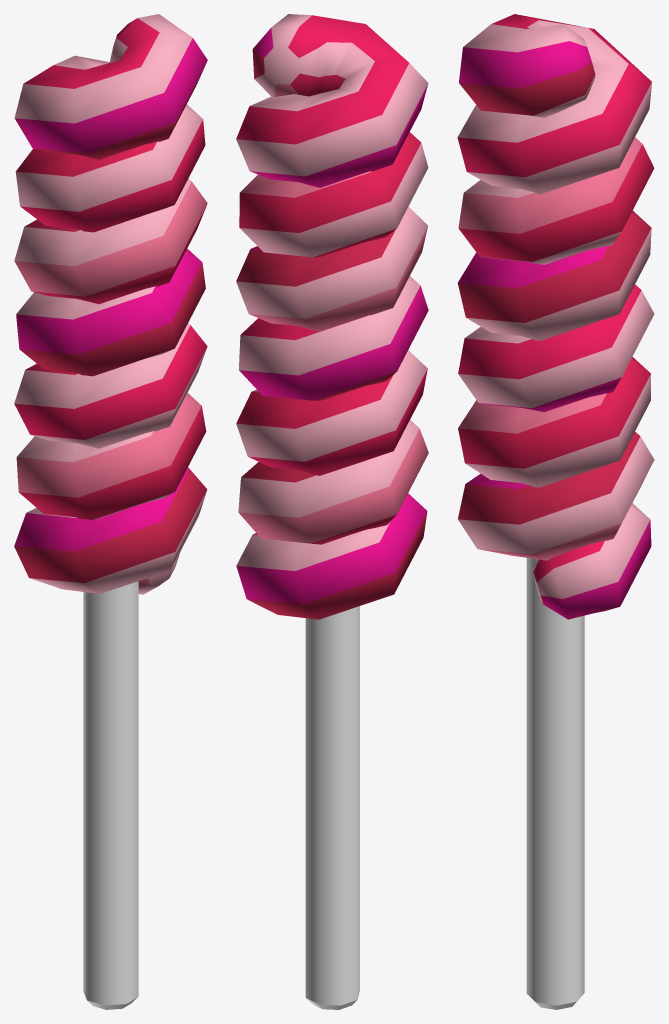
Rendered from Candy_16.fbx.
3 views of the same model, side by side, from view 1: azimuth 30°, elevation 25°; view 2: azimuth 150°, elevation 25°; view 3: azimuth 270°, elevation 25° (orthographic). The views are drawn at different scales.
Parts seen in each view (by area): view 1: Candy_16; view 2: Candy_16; view 3: Candy_16.
Part boxes in pixels (x1,y1,x2,y2): Candy_16: [14, 14, 207, 1009]; Candy_16: [236, 14, 428, 1009]; Candy_16: [457, 14, 654, 1009].
Bounding box in the file's own units: 0.4885 × 2.83 × 0.5107.
